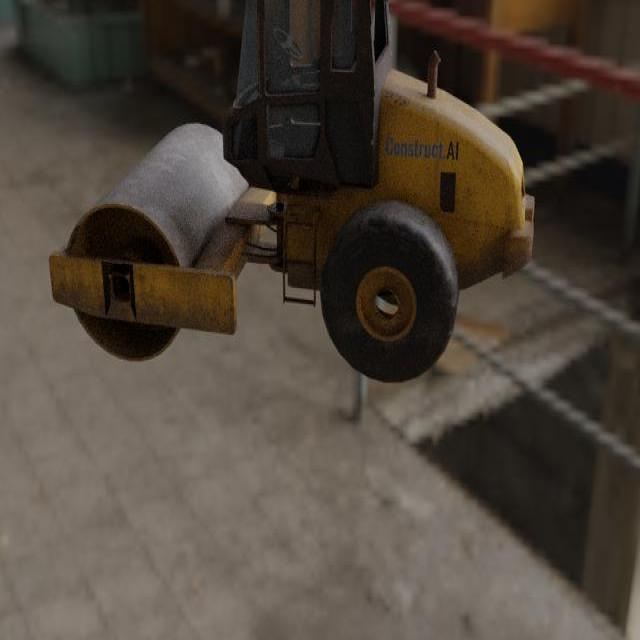Roller: (48, 0, 534, 384)
